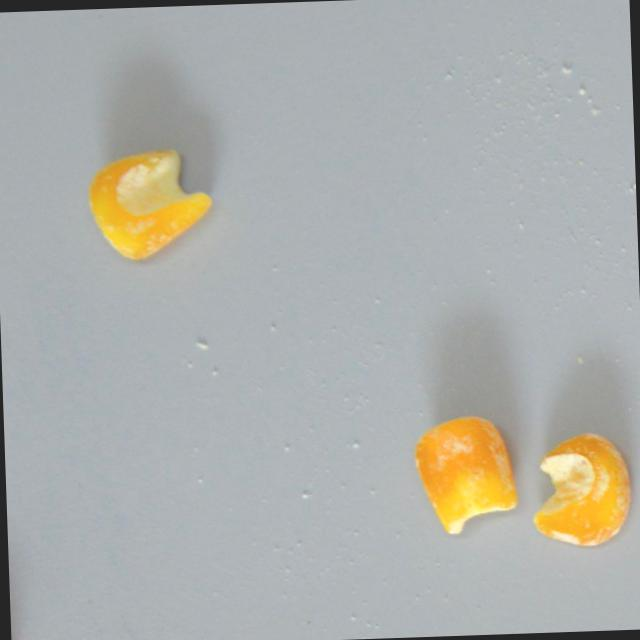pelicula: (85, 147, 211, 259), (411, 411, 518, 533), (529, 428, 631, 547)
